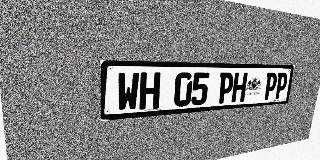0: (173, 72, 193, 107)
5: (191, 72, 210, 106)
H: (139, 72, 161, 110), (231, 72, 248, 103)
P: (217, 72, 234, 104), (263, 73, 278, 100), (274, 73, 288, 99)
W: (117, 72, 140, 112)
